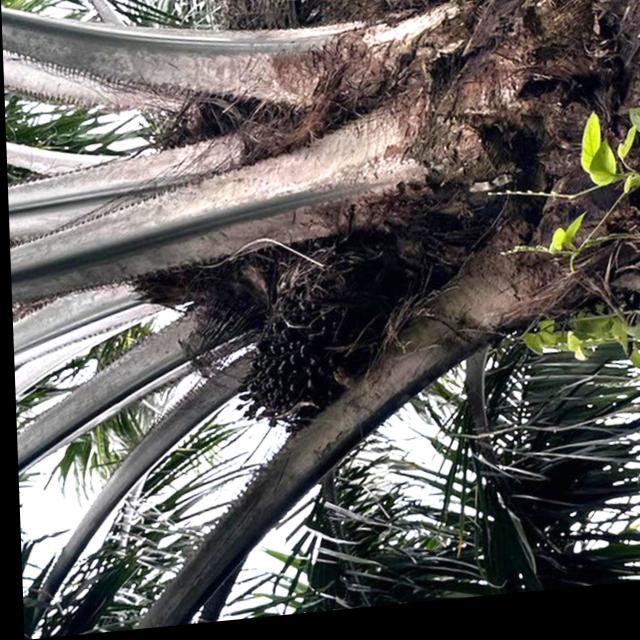almost: (215, 242, 404, 447)
